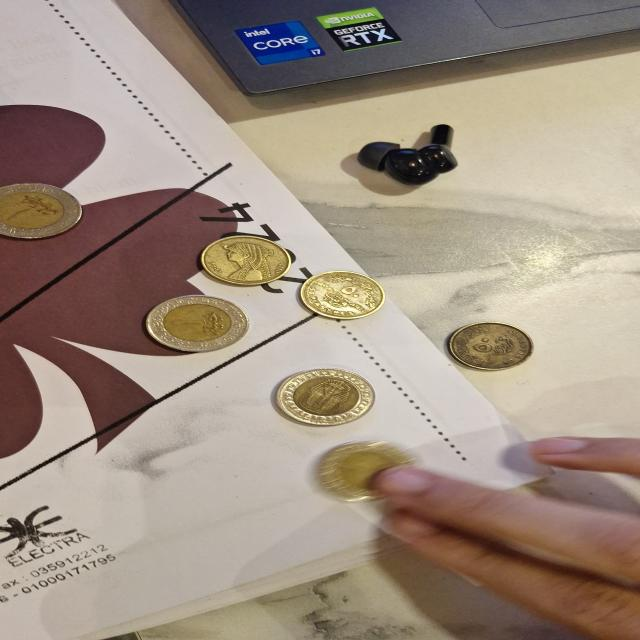Half Pound: (188, 234, 301, 288), (294, 268, 394, 320), (446, 319, 544, 372)
One Pound: (268, 365, 386, 430), (137, 295, 257, 355), (304, 440, 424, 491), (0, 180, 85, 240)
